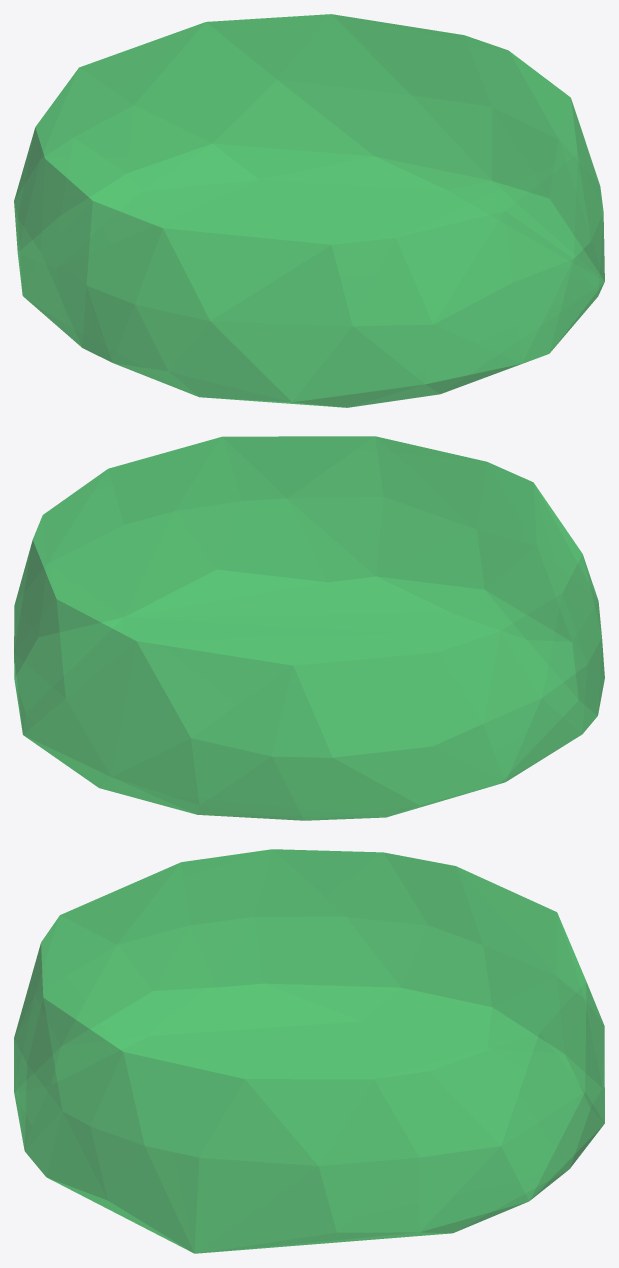
3 renders of one model, top to bottom at view 1: azimuth 30°, elevation 25°; view 2: azimuth 150°, elevation 25°; view 3: azimuth 270°, elevation 25°, orthographic.
Parts seen in each view (by area): view 1: Shape_IndexedFaceSet.001_Shape_IndexedFaceSet.2376; view 2: Shape_IndexedFaceSet.001_Shape_IndexedFaceSet.2376; view 3: Shape_IndexedFaceSet.001_Shape_IndexedFaceSet.2376.
Boxes of the visible parts, x1,y1,x2,y2 form: Shape_IndexedFaceSet.001_Shape_IndexedFaceSet.2376: (14, 14, 604, 407); Shape_IndexedFaceSet.001_Shape_IndexedFaceSet.2376: (14, 436, 604, 820); Shape_IndexedFaceSet.001_Shape_IndexedFaceSet.2376: (14, 849, 604, 1253).
Size of the model in its own units: 0.2834 by 0.0907 by 0.2839.
